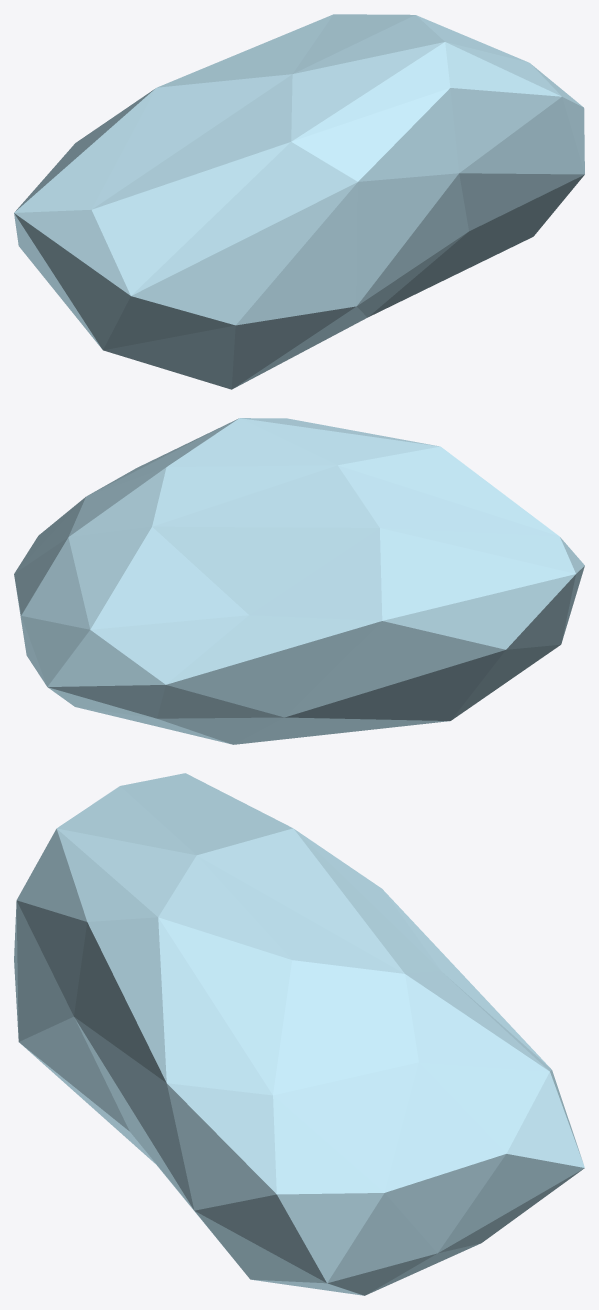
File: bulut4.fbx
3 renders of one model, top to bottom at view 1: azimuth 30°, elevation 25°; view 2: azimuth 150°, elevation 25°; view 3: azimuth 270°, elevation 25°, orthographic. The views are drawn at different scales.
Parts seen in each view (by area): view 1: Icosphere.002; view 2: Icosphere.002; view 3: Icosphere.002.
Part boxes in pixels (<box>): Icosphere.002: <box>14,14,584,389</box>; Icosphere.002: <box>14,418,584,744</box>; Icosphere.002: <box>14,773,584,1295</box>.
Bounding box in the file's own units: 351 × 164 × 251.
